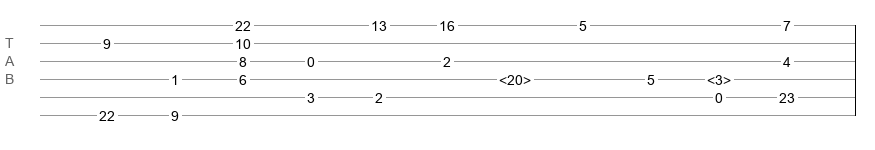0: (307, 54, 315, 64), (715, 90, 723, 100)
1: (171, 72, 179, 82)
10: (235, 36, 251, 46)
13: (371, 18, 387, 28)
16: (439, 18, 455, 28)
2: (375, 90, 383, 100), (443, 54, 451, 64)
22: (99, 108, 115, 118), (235, 18, 251, 28)
23: (779, 90, 795, 100)
3: (307, 90, 315, 100)
4: (783, 54, 791, 64)
5: (579, 18, 587, 28), (647, 72, 655, 82)
6: (239, 72, 247, 82)
7: (783, 18, 791, 28)
8: (239, 54, 247, 64)
9: (103, 36, 111, 46), (171, 108, 179, 118)
harmonic: (499, 72, 531, 82), (707, 72, 731, 82)
